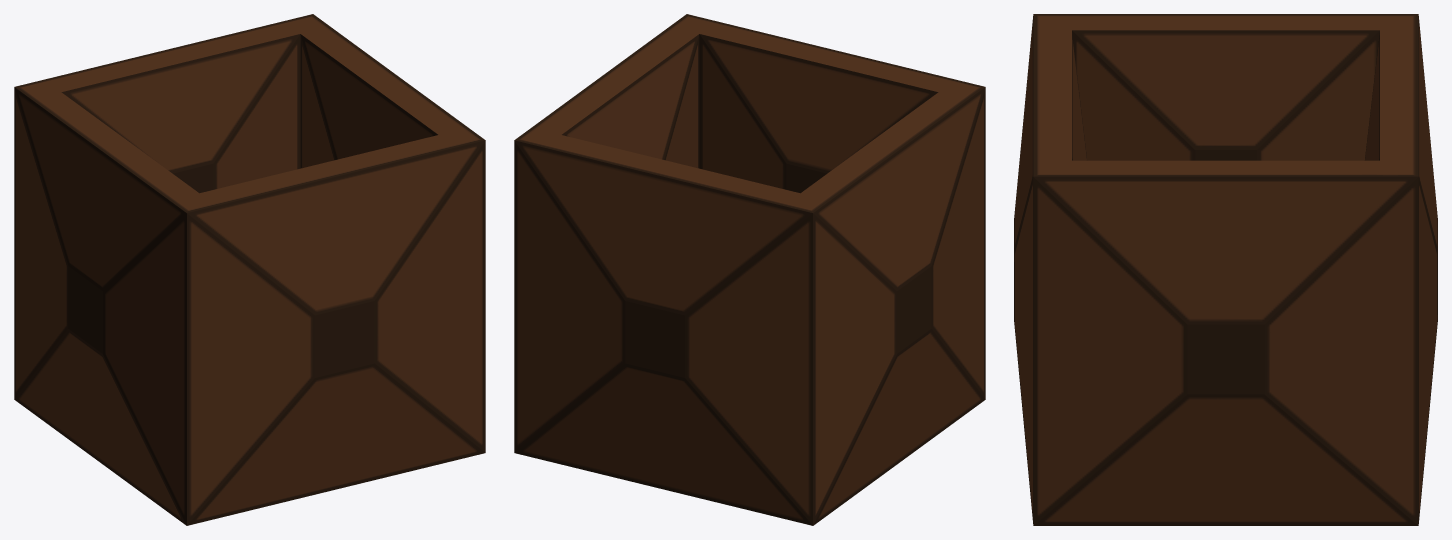
Rendered from Crate.fbx.
3 renders of one model, left to right at view 1: azimuth 30°, elevation 25°; view 2: azimuth 150°, elevation 25°; view 3: azimuth 270°, elevation 25°, orthographic. The views are drawn at different scales.
Visible parts, largest first — view 1: Cube; view 2: Cube; view 3: Cube.
Boxes of the visible parts, x1,y1,x2,y2 form: Cube: [14, 14, 485, 525]; Cube: [514, 14, 985, 525]; Cube: [1014, 14, 1437, 525].
Size of the model in its own units: 220 by 210 by 220.
